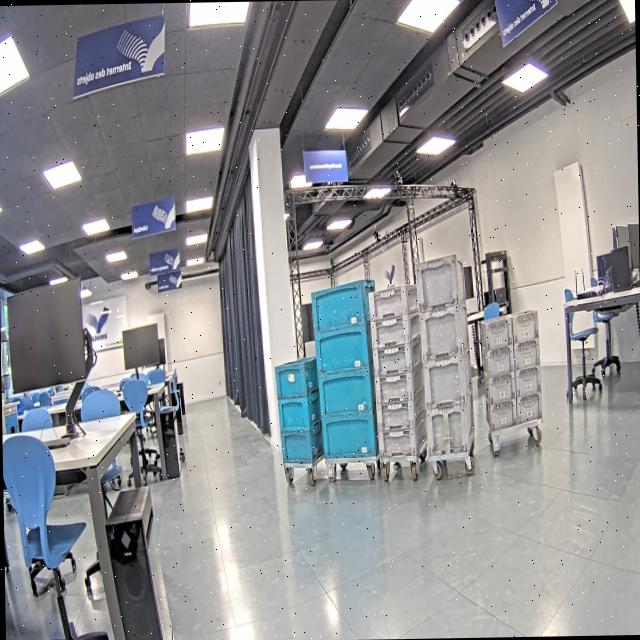Box3G: (372, 355, 423, 404), (374, 389, 426, 432), (378, 411, 428, 455), (369, 308, 418, 352), (372, 338, 422, 376), (368, 286, 417, 321)
Box4G: (417, 304, 469, 364), (421, 349, 474, 407), (412, 252, 462, 312), (425, 398, 474, 455)
Box8G: (480, 343, 514, 378), (484, 400, 518, 432), (510, 307, 540, 343), (480, 318, 512, 350), (485, 374, 516, 406), (512, 340, 542, 373), (514, 368, 544, 400), (516, 394, 544, 427)
BoxB4: (309, 280, 377, 340), (313, 324, 375, 378), (317, 367, 378, 420), (322, 412, 381, 458)
BoxB8: (272, 356, 320, 399), (275, 392, 322, 434), (278, 426, 324, 466)
